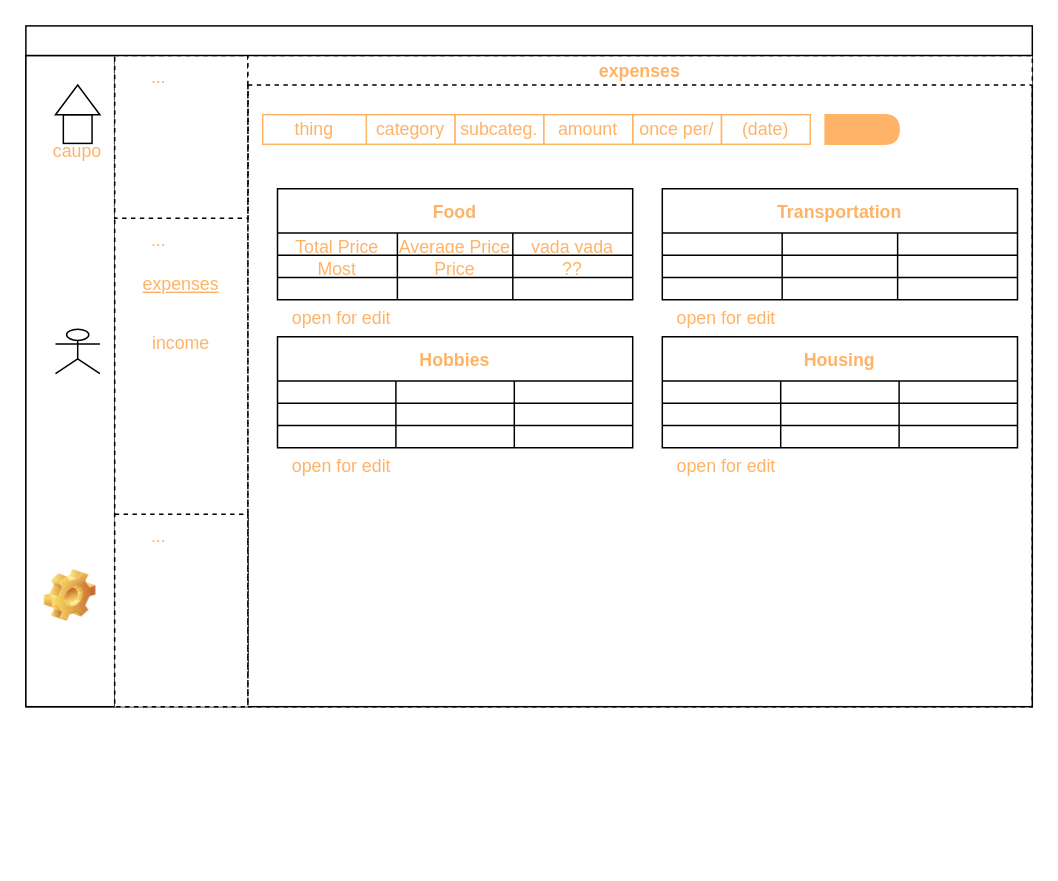
This 1058x881 diagram has some shape labels left out. Here are the shapes that lost their labels. From the top down, the box of each, then its label:
(24, 24, 1032, 56): Pro mus
(824, 113, 899, 144): Add
(54, 328, 100, 374): self
(44, 569, 95, 621): setup
